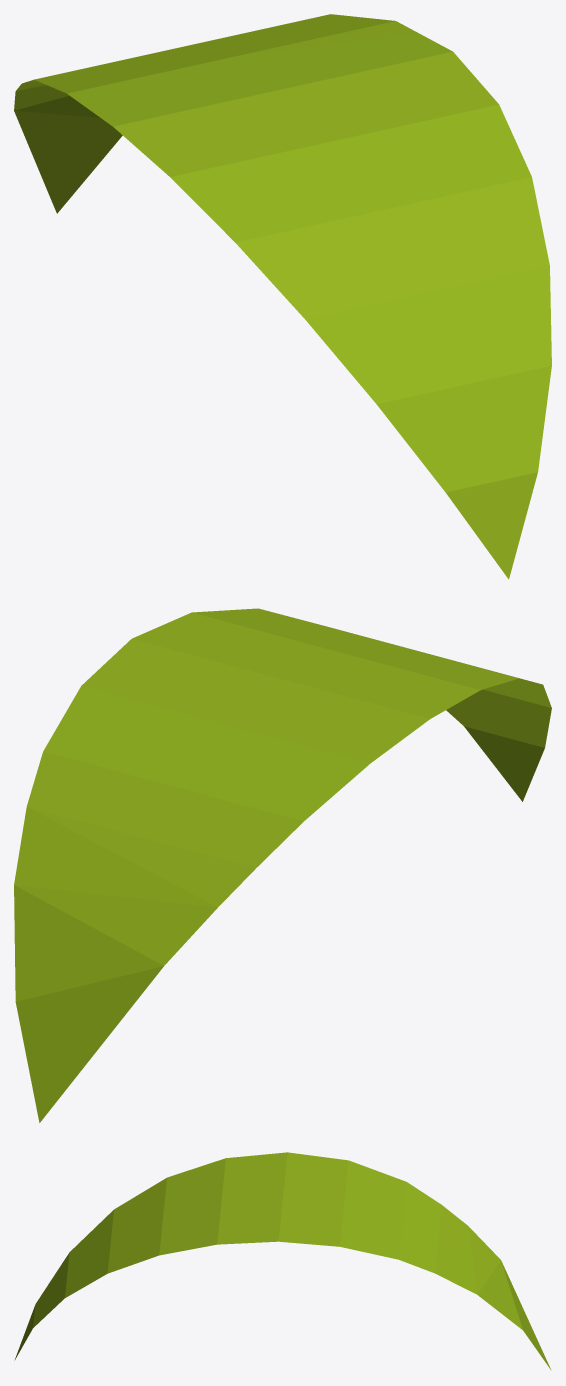
The model's file is Vegetation_Modular_Tree_Foliage_Tropical_Palm_Leaf_03.fbx.
The picture shows the model from 3 angles, top to bottom: view 1: azimuth 30°, elevation 25°; view 2: azimuth 150°, elevation 25°; view 3: azimuth 270°, elevation 25°; orthographic projection. The views are drawn at different scales.
Visible parts, largest first — view 1: Vegetation_Modular_Tree_Foliage_Tropical_Palm_Leaf_03; view 2: Vegetation_Modular_Tree_Foliage_Tropical_Palm_Leaf_03; view 3: Vegetation_Modular_Tree_Foliage_Tropical_Palm_Leaf_03.
Part boxes in pixels (x1,y1,x2,y2): Vegetation_Modular_Tree_Foliage_Tropical_Palm_Leaf_03: (14, 14, 551, 579); Vegetation_Modular_Tree_Foliage_Tropical_Palm_Leaf_03: (14, 608, 551, 1122); Vegetation_Modular_Tree_Foliage_Tropical_Palm_Leaf_03: (14, 1152, 551, 1370).
Size of the model in its own units: 814 by 721 by 2070.
